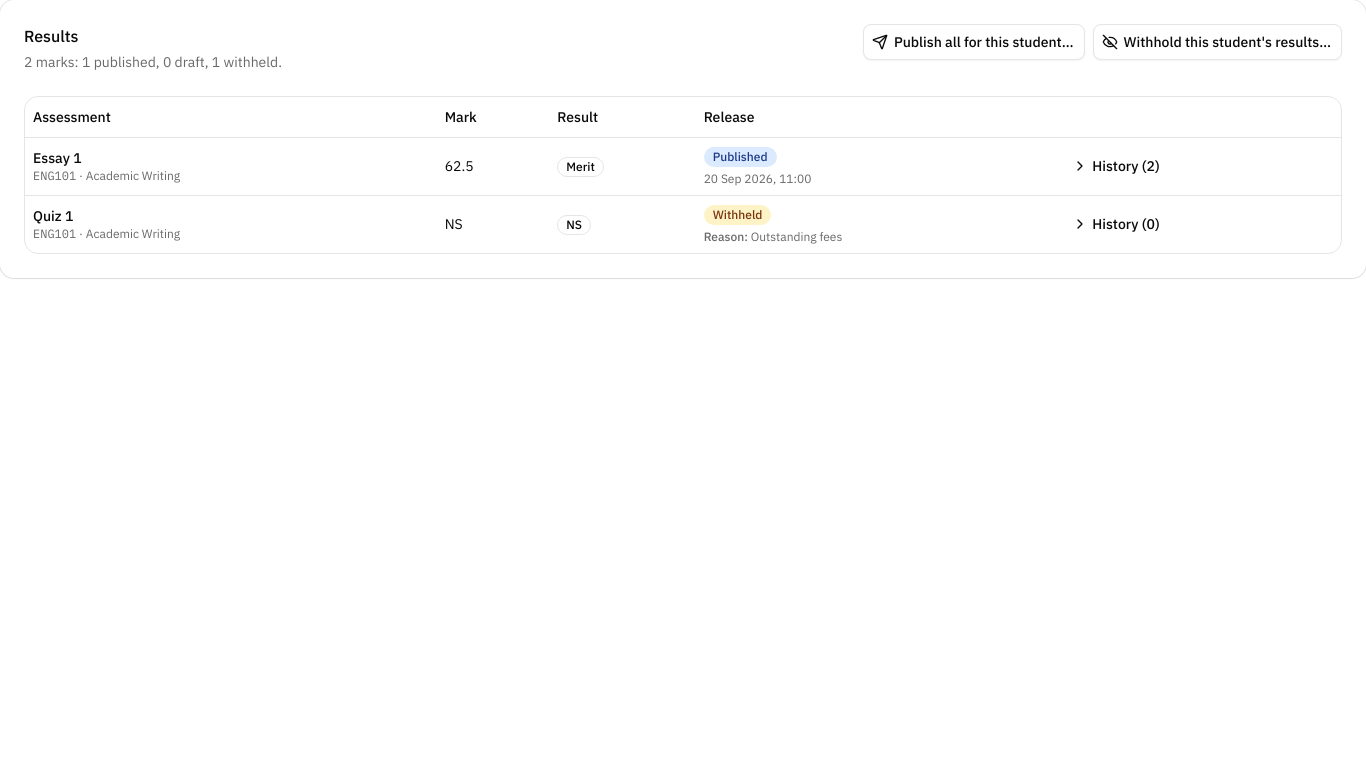
Test: StudentResultsCard › opens the publish preview for this student from the publish-all button
Click the button "Publish all for this student…" at x=974, y=42, box 863,24 -> 1084,60
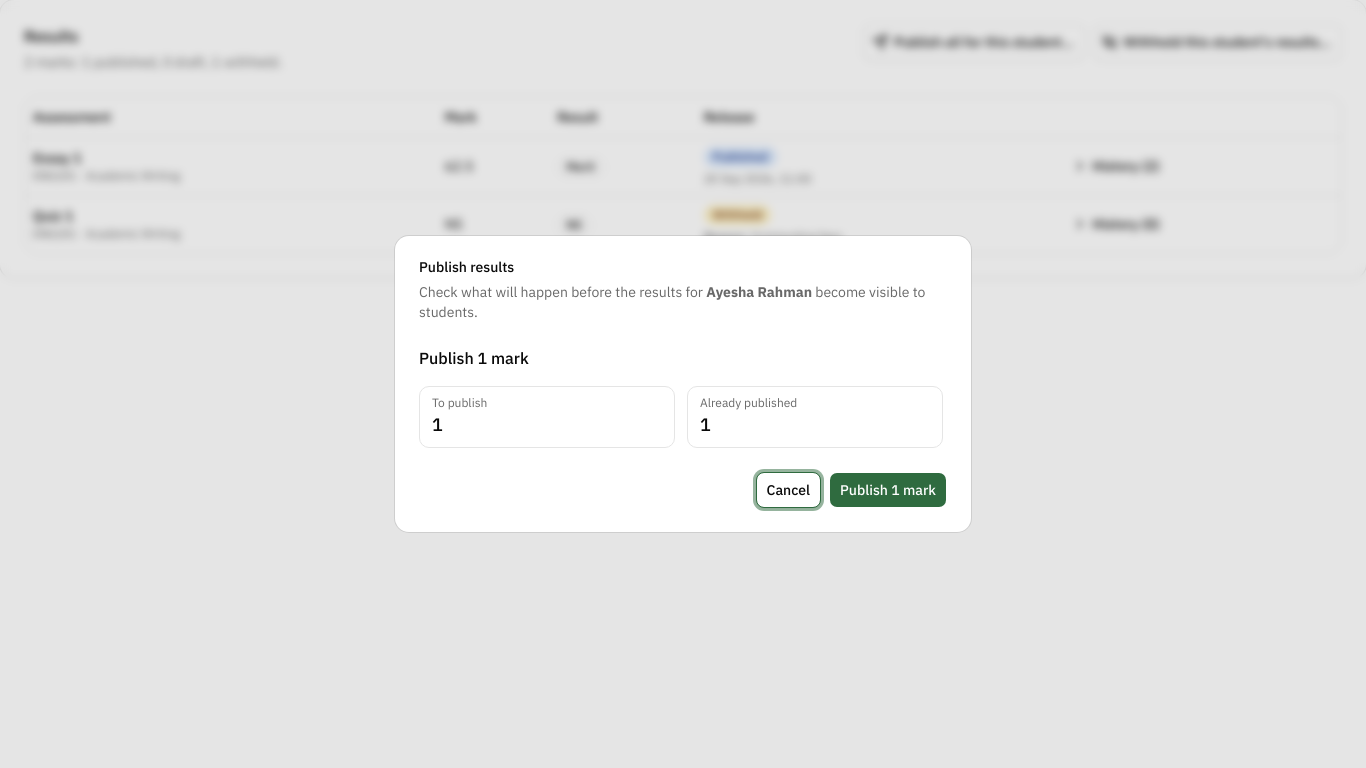
Check: the text "Publish 1 mark" is shown, box 419,348 -> 529,368
